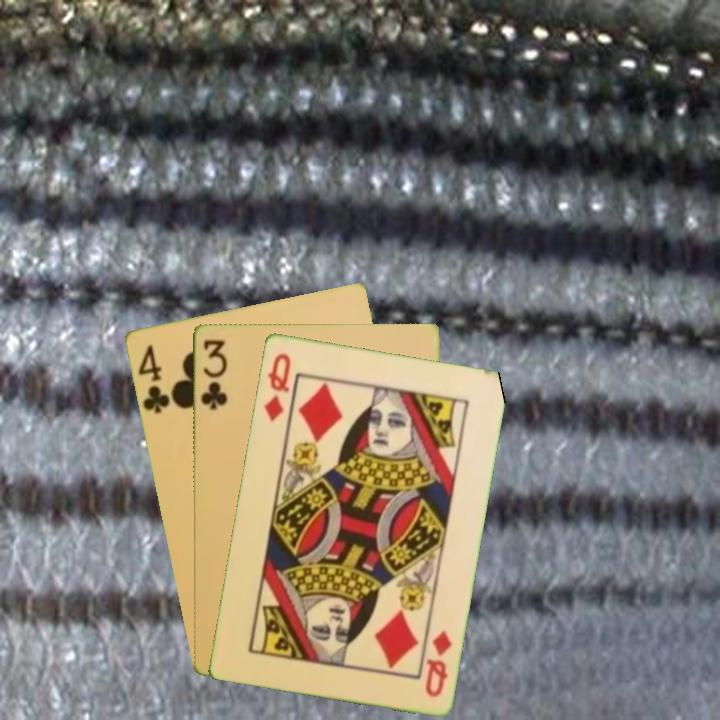3c: (197, 335, 229, 412)
4c: (133, 341, 172, 416)
Qd: (260, 349, 294, 423), (421, 626, 455, 700)
